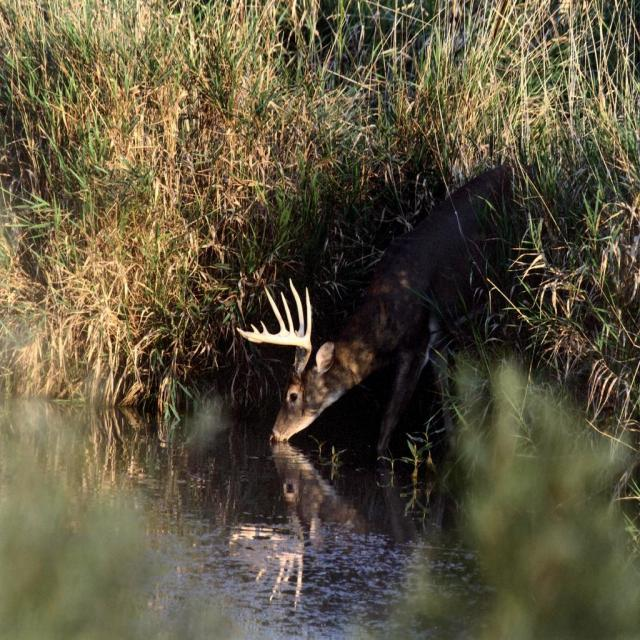Deer: (236, 164, 539, 449)
